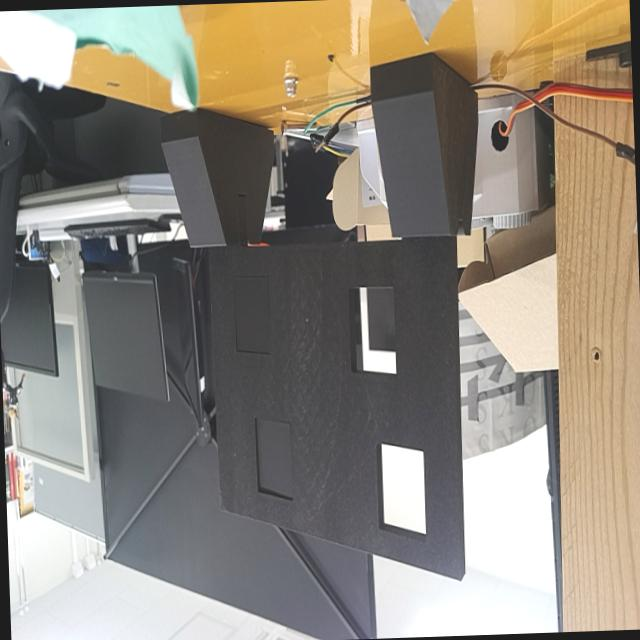Obstacle: (375, 444, 425, 540), (349, 287, 397, 378), (254, 421, 292, 499)
Wall: (208, 236, 459, 581)
